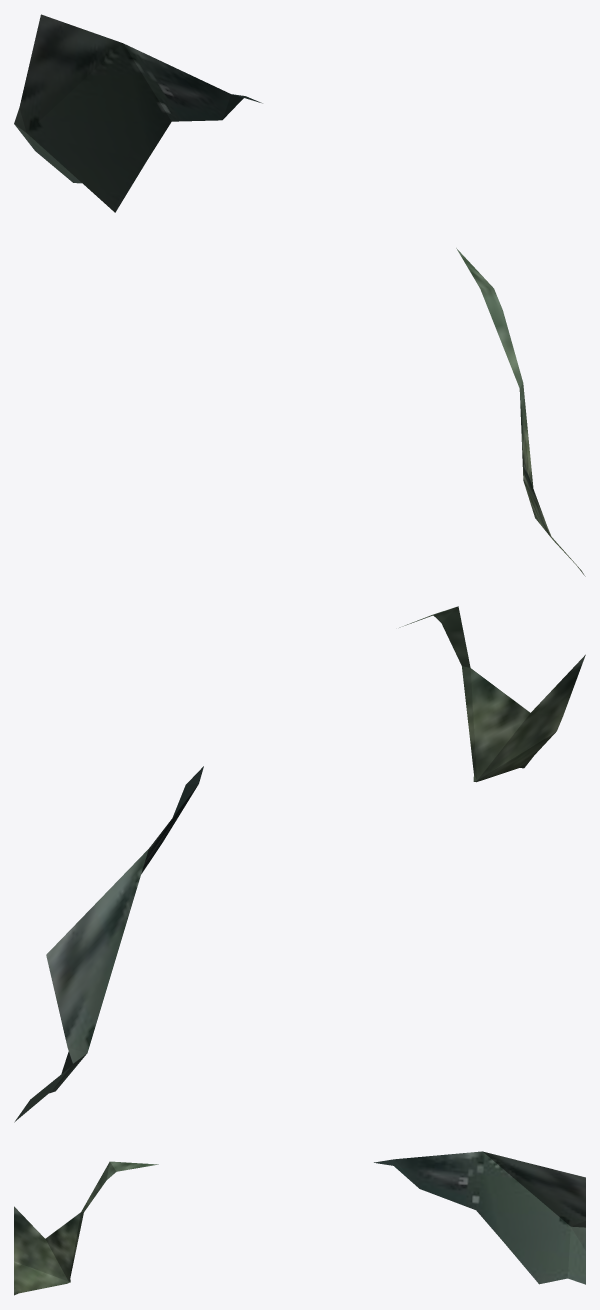
3 views of the same model, one above another, from view 1: azimuth 30°, elevation 25°; view 2: azimuth 150°, elevation 25°; view 3: azimuth 270°, elevation 25° (orthographic). The views are drawn at different scales.
Bounding box in the file's own units: 1.83 × 6.69 × 26.11.
Materials: 1 (1 with a texture image).
